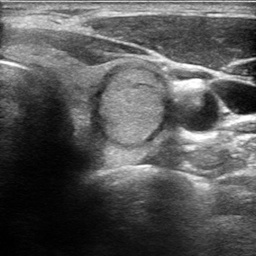mass: (94, 65, 170, 145)
